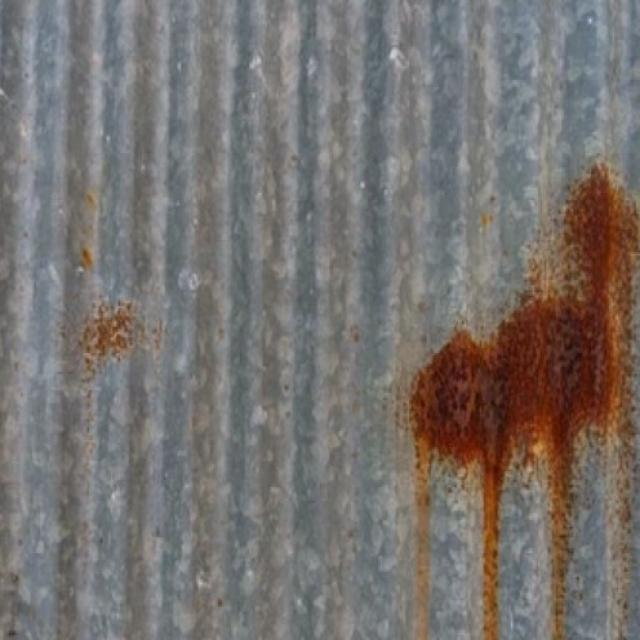Corrosion: (413, 220, 636, 466), (484, 464, 508, 640)
